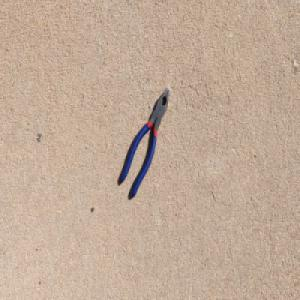Pliers: (120, 86, 171, 198)
